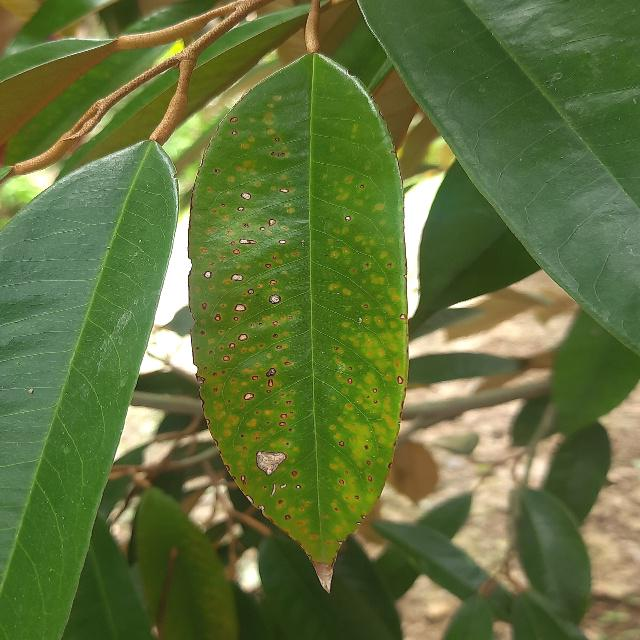Leaf Spot: (177, 41, 421, 597)
